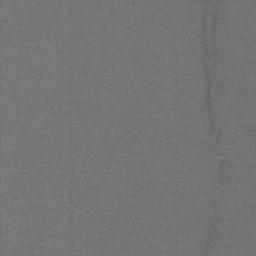Inclusion: (111, 0, 131, 166)
